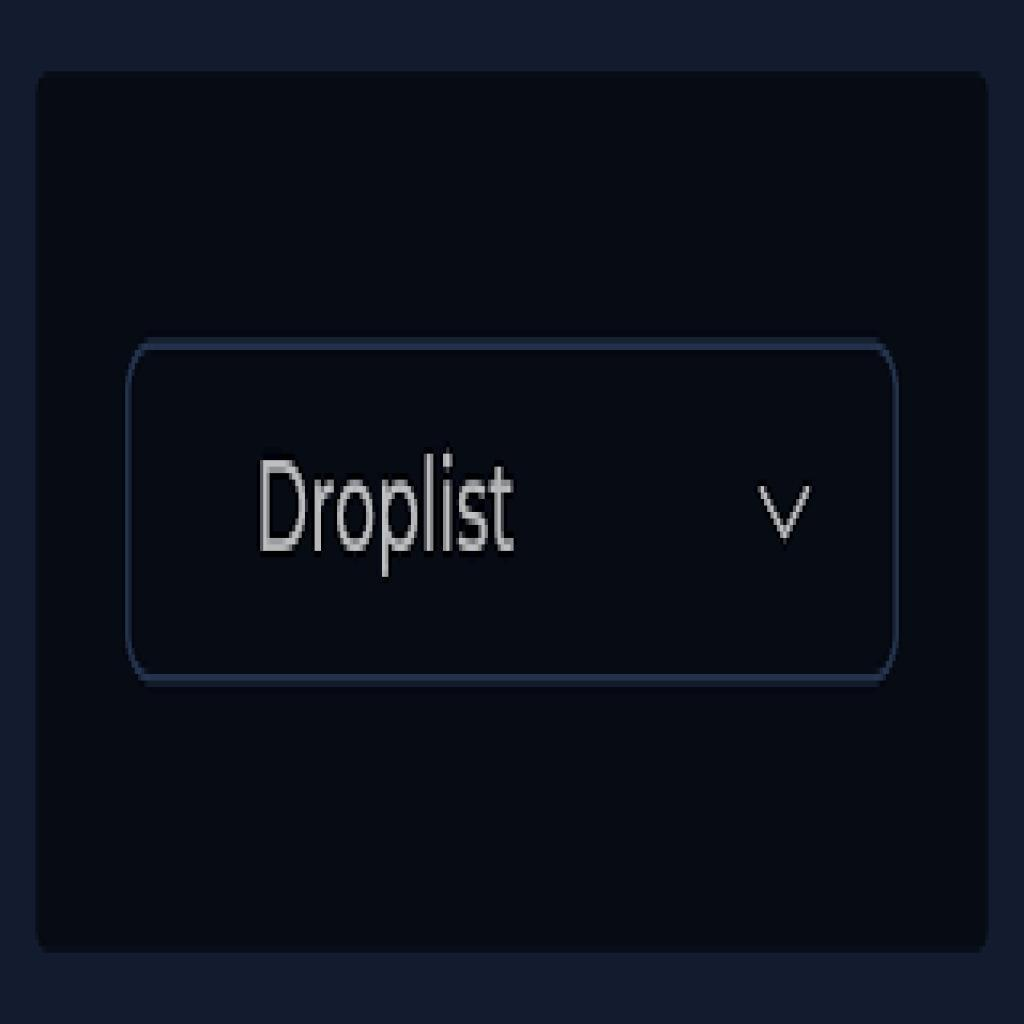dropdown: (125, 337, 902, 689)
